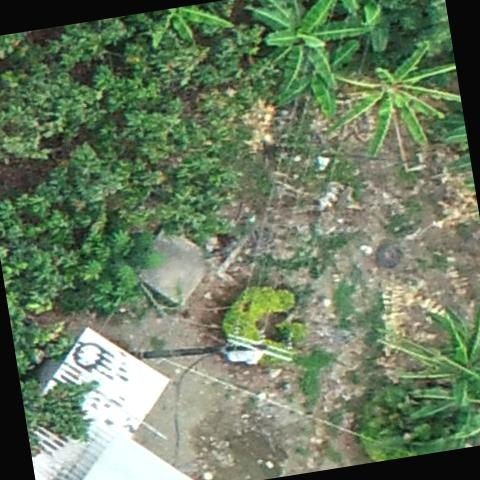Banana-plant: (316, 39, 466, 170), (242, 0, 369, 97), (384, 296, 480, 413), (299, 0, 419, 67)
